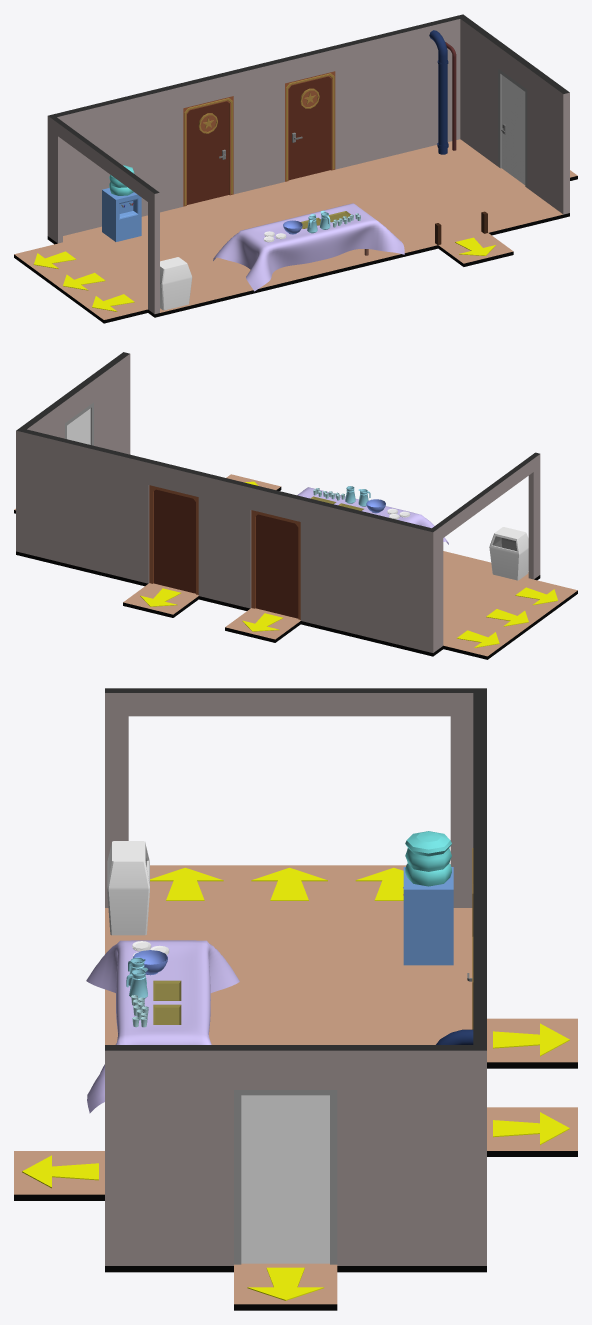
The model's file is Pasillo1.fbx.
The picture shows the model from 3 angles, top to bottom: view 1: azimuth 30°, elevation 25°; view 2: azimuth 150°, elevation 25°; view 3: azimuth 270°, elevation 25°; orthographic projection. The views are drawn at different scales.
Parts seen in each view (by area): view 1: Paredes.009, PlataformaMovil.007, Mantel, Puerta1.006, Puerta1.005, Puerta1.007, DispensadorAgua, CuboBasura.001, TuberiaAncha, SalidaPasillo2.002, MarcoPuerta.008, MarcoPuerta.009 (+3 smaller); view 2: Paredes.009, PlataformaMovil.007, Puerta1.005, Puerta1.006, CuboBasura.001, SalidaPasillo2.002, MarcoPuerta.008, MarcoPuerta.009, Mantel, Puerta1.007, SalidaCamerino2, SalidaCamerino1.001; view 3: Paredes.009, PlataformaMovil.007, Puerta1.007, Mantel, DispensadorAgua, CuboBasura.001, SalidaPasillo2.002, MarcoPuerta.010, GarrafaAgua, SalidaTaquilla, SalidaCamerino2, SalidaBambalinasDer (+1 smaller).
Part boxes in pixels (<box>): Paredes.009: <box>47,14,569,314</box>; PlataformaMovil.007: <box>14,139,577,323</box>; Mantel: <box>213,203,404,291</box>; Puerta1.006: <box>288,76,330,180</box>; Puerta1.005: <box>187,101,229,204</box>; Puerta1.007: <box>501,75,525,184</box>; DispensadorAgua: <box>102,188,141,241</box>; CuboBasura.001: <box>160,257,192,310</box>; TuberiaAncha: <box>429,30,448,154</box>; SalidaPasillo2.002: <box>33,251,134,311</box>; MarcoPuerta.008: <box>183,96,233,206</box>; MarcoPuerta.009: <box>285,71,335,181</box>; Paredes.009: <box>16,352,540,652</box>; PlataformaMovil.007: <box>14,474,577,659</box>; Puerta1.005: <box>255,514,298,618</box>; Puerta1.006: <box>153,489,195,593</box>; CuboBasura.001: <box>489,527,528,580</box>; SalidaPasillo2.002: <box>456,587,557,647</box>; MarcoPuerta.008: <box>251,510,300,619</box>; MarcoPuerta.009: <box>149,485,198,594</box>; Mantel: <box>297,487,448,544</box>; Puerta1.007: <box>67,408,90,444</box>; SalidaCamerino2: <box>242,613,282,631</box>; SalidaCamerino1.001: <box>140,588,180,606</box>; Paredes.009: <box>105,688,486,1265</box>; PlataformaMovil.007: <box>14,865,577,1310</box>; Puerta1.007: <box>241,1095,329,1263</box>; Mantel: <box>86,940,239,1113</box>; DispensadorAgua: <box>403,867,453,965</box>; CuboBasura.001: <box>107,841,149,935</box>; SalidaPasillo2.002: <box>150,867,403,900</box>; MarcoPuerta.010: <box>234,1090,337,1264</box>; GarrafaAgua: <box>405,831,451,886</box>; SalidaTaquilla: <box>247,1267,324,1300</box>; SalidaCamerino2: <box>493,1023,569,1056</box>; SalidaBambalinasDer: <box>22,1155,98,1188</box>.
Bounding box in the file's own units: 28591 × 6720 × 15516.
